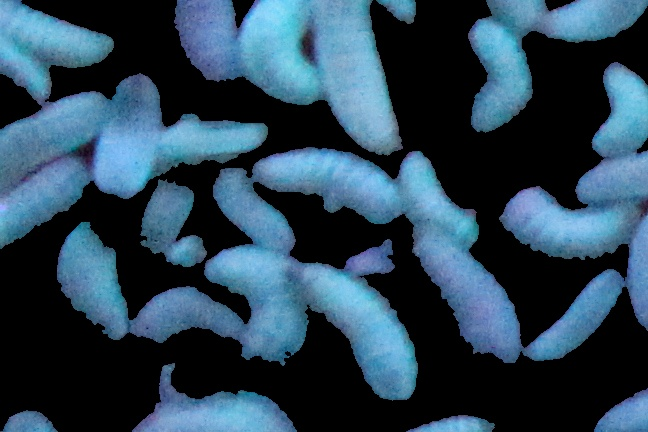larvae: (299, 262, 420, 403), (411, 230, 525, 362), (208, 240, 303, 365), (321, 1, 400, 151), (256, 147, 401, 223), (502, 188, 634, 264), (1, 93, 104, 183), (525, 273, 624, 364), (237, 1, 323, 102), (94, 74, 160, 199), (58, 220, 125, 343), (1, 158, 87, 250), (397, 150, 481, 244), (128, 388, 299, 432), (467, 19, 533, 132), (1, 1, 115, 65), (130, 289, 242, 343), (587, 62, 648, 157), (158, 113, 266, 166), (206, 175, 287, 244), (173, 1, 237, 82), (542, 1, 648, 45), (569, 151, 648, 210), (141, 178, 195, 257), (1, 40, 47, 103), (624, 217, 648, 336), (396, 405, 495, 432), (595, 386, 648, 432), (480, 1, 542, 33)
